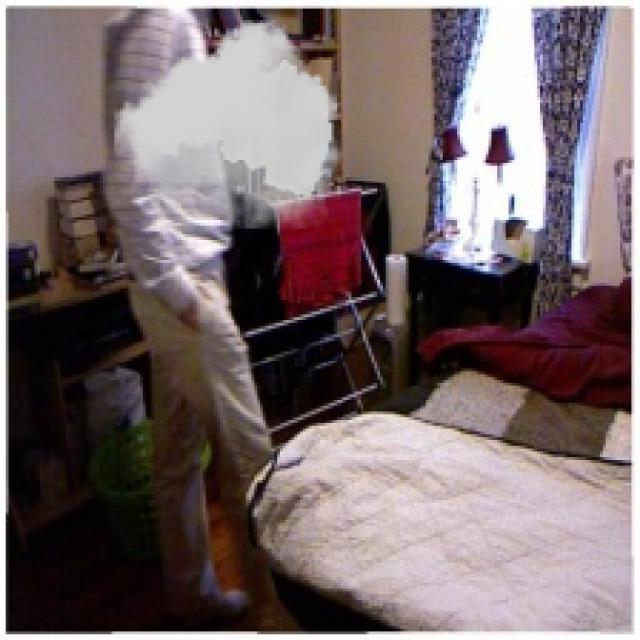Smoke: (114, 20, 343, 229)
